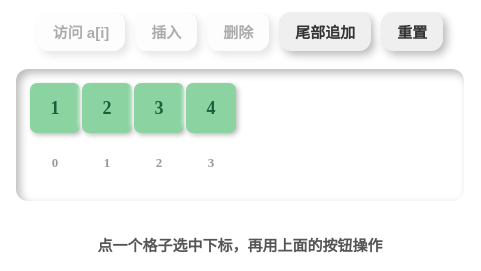
Test case: ArrayViz › TC-VIZ-ARRAYVIZ-05 append 尾增（无需选中）
Click the button "尾部追加".
click(325, 32)  # box [279,12,371,51]
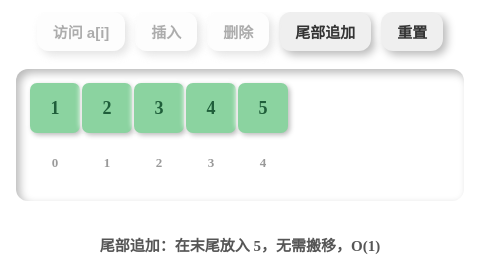
expect the number of buttons with class "cell" is 5: met, box [30,83,80,133]; [82,83,132,133]; [134,83,184,133]; [186,83,236,133]; [238,83,288,133]
expect the button with class "cell" reads "5": met, box [238,83,288,133]
